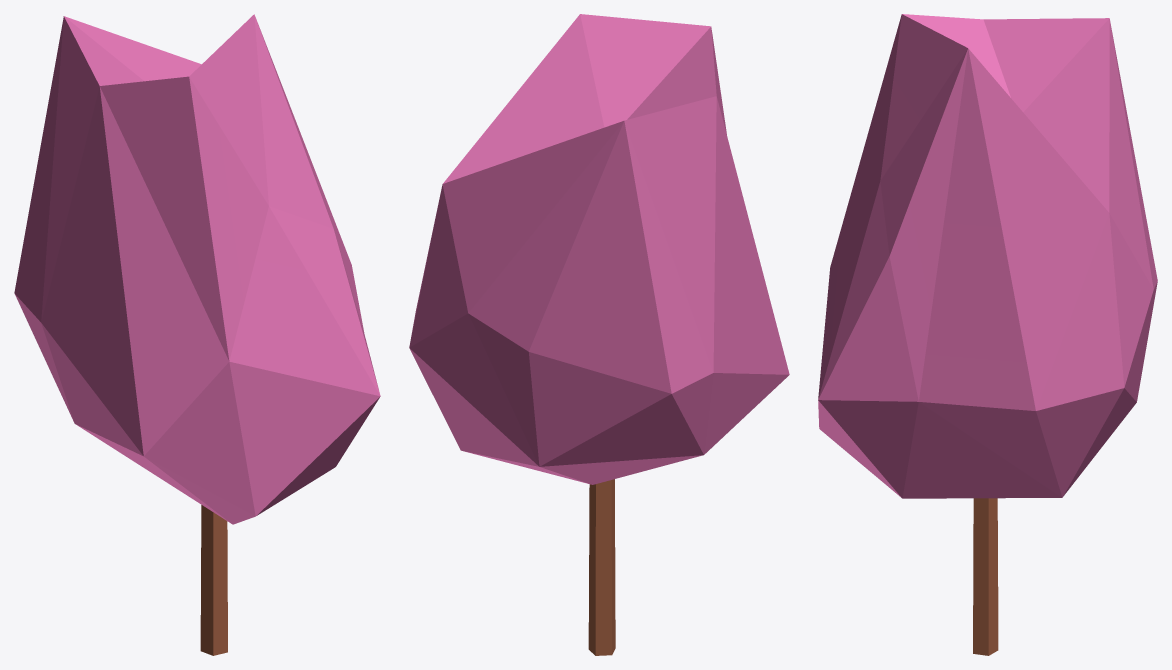
Rendered from Tulip_A.fbx.
3 views of the same model, side by side, from view 1: azimuth 30°, elevation 25°; view 2: azimuth 150°, elevation 25°; view 3: azimuth 270°, elevation 25° (orthographic). The views are drawn at different scales.
Parts seen in each view (by area): view 1: Tulip_A_geo; view 2: Tulip_A_geo; view 3: Tulip_A_geo.
Part boxes in pixels (bbox=[...]): Tulip_A_geo: bbox=[14, 14, 380, 655]; Tulip_A_geo: bbox=[409, 14, 789, 655]; Tulip_A_geo: bbox=[818, 14, 1157, 655].
Bounding box in the file's own units: 24.36 × 48.13 × 24.02.
